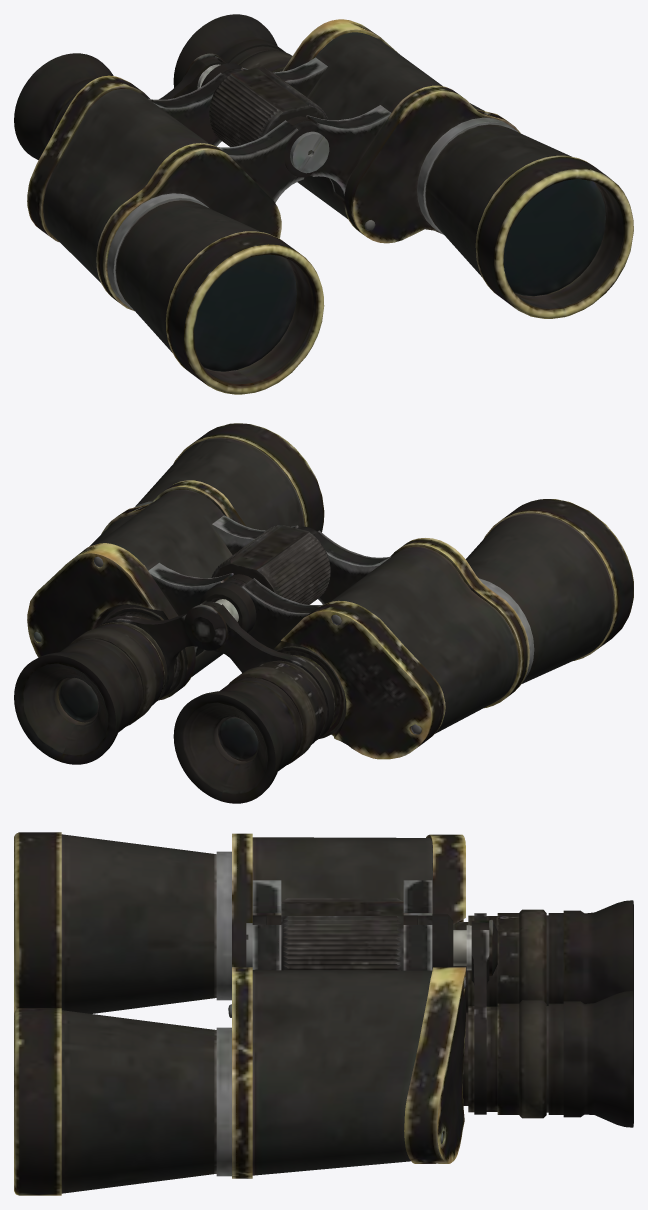
Rendered from vintage_binocular.glb.
3 views of the same model, one above another, from view 1: azimuth 30°, elevation 25°; view 2: azimuth 150°, elevation 25°; view 3: azimuth 270°, elevation 25° (orthographic). The views are drawn at different scales.
Parts seen in each view (by area): view 1: vintage_binocular_left_lens; view 2: vintage_binocular_left_lens; view 3: vintage_binocular_left_lens.
Part boxes in pixels (box(x1,y1,x2,y2)): vintage_binocular_left_lens: box(14, 14, 633, 394); vintage_binocular_left_lens: box(14, 423, 633, 803); vintage_binocular_left_lens: box(14, 832, 633, 1195).
Size of the model in its own units: 0.194 by 0.0684 by 0.1992.
Materials: 1 (1 with a texture image).
